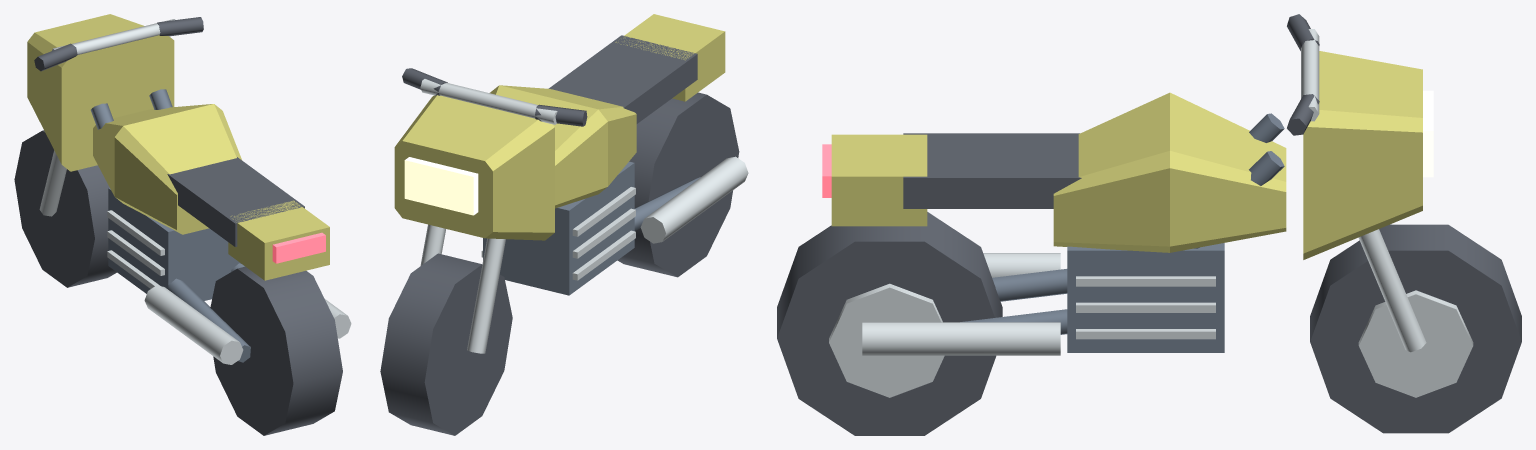
File: motorcycle.glb
The picture shows the model from 3 angles, left to right: view 1: azimuth 30°, elevation 25°; view 2: azimuth 150°, elevation 25°; view 3: azimuth 270°, elevation 25°; orthographic projection. The views are drawn at different scales.
Visible parts, largest first — view 1: Tire (×2), Front_Fairing, Fuel_Tank, Engine, Seat, Tail_Cowl, Exhaust (×2), Handlebar_Grip (×2), Rear_Swingarm, Handlebars, Taillight, Front_Fork (+4 smaller); view 2: Tire (×2), Front_Fairing, Fuel_Tank, Engine, Seat, Tail_Cowl, Exhaust, Headlight, Front_Fork (×2), Handlebars, Handlebar_Grip (×2), Cooling_Fin_0 (+3 smaller); view 3: Tire (×2), Fuel_Tank, Front_Fairing, Hub (×2), Engine, Seat, Exhaust (×2), Tail_Cowl, Front_Fork, Rear_Swingarm (×2), Cooling_Fin_0, Cooling_Fin_1 (+5 smaller).
Boxes of the visible parts, box(x1,y1,x2,y2) form: Tire (×2): box(14, 130, 342, 435); Front_Fairing: box(27, 14, 174, 171); Fuel_Tank: box(93, 104, 241, 234); Engine: box(108, 188, 241, 300); Seat: box(167, 157, 304, 246); Tail_Cowl: box(228, 200, 329, 280); Exhaust (×2): box(144, 285, 351, 364); Handlebar_Grip (×2): box(34, 17, 203, 71); Rear_Swingarm: box(168, 278, 250, 362); Handlebars: box(52, 19, 175, 54); Taillight: box(272, 232, 325, 263); Front_Fork: box(39, 150, 66, 216); Tire (×2): box(380, 92, 739, 435); Front_Fairing: box(394, 95, 554, 240); Fuel_Tank: box(490, 85, 636, 208); Engine: box(483, 161, 634, 295); Seat: box(548, 35, 697, 123); Tail_Cowl: box(615, 14, 725, 101); Exhaust: box(640, 156, 748, 243); Headlight: box(404, 157, 478, 215); Front_Fork (×2): box(420, 224, 505, 353); Handlebars: box(420, 79, 557, 124); Handlebar_Grip (×2): box(402, 68, 587, 126); Cooling_Fin_0: box(481, 230, 635, 280); Tire (×2): box(777, 212, 1521, 435); Fuel_Tank: box(1053, 92, 1286, 252); Front_Fairing: box(1303, 51, 1422, 259); Hub (×2): box(829, 283, 1473, 397); Engine: box(1067, 243, 1224, 352); Seat: box(903, 133, 1081, 208); Exhaust (×2): box(862, 253, 1060, 355); Tail_Cowl: box(831, 134, 927, 226); Front_Fork: box(1358, 229, 1426, 352); Rear_Swingarm (×2): box(960, 269, 1067, 334); Cooling_Fin_0: box(1076, 329, 1215, 339); Cooling_Fin_1: box(1076, 302, 1215, 312).
Size of the model in its own units: 0.7334 by 1.14 by 2.18.
